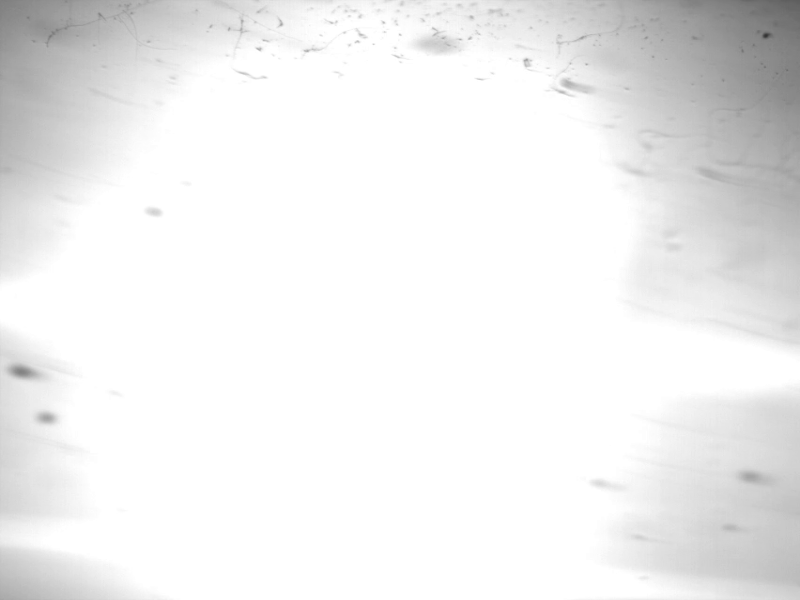bead: (6, 360, 41, 383), (34, 405, 60, 430), (737, 465, 763, 487), (589, 476, 614, 491), (144, 204, 165, 219)
